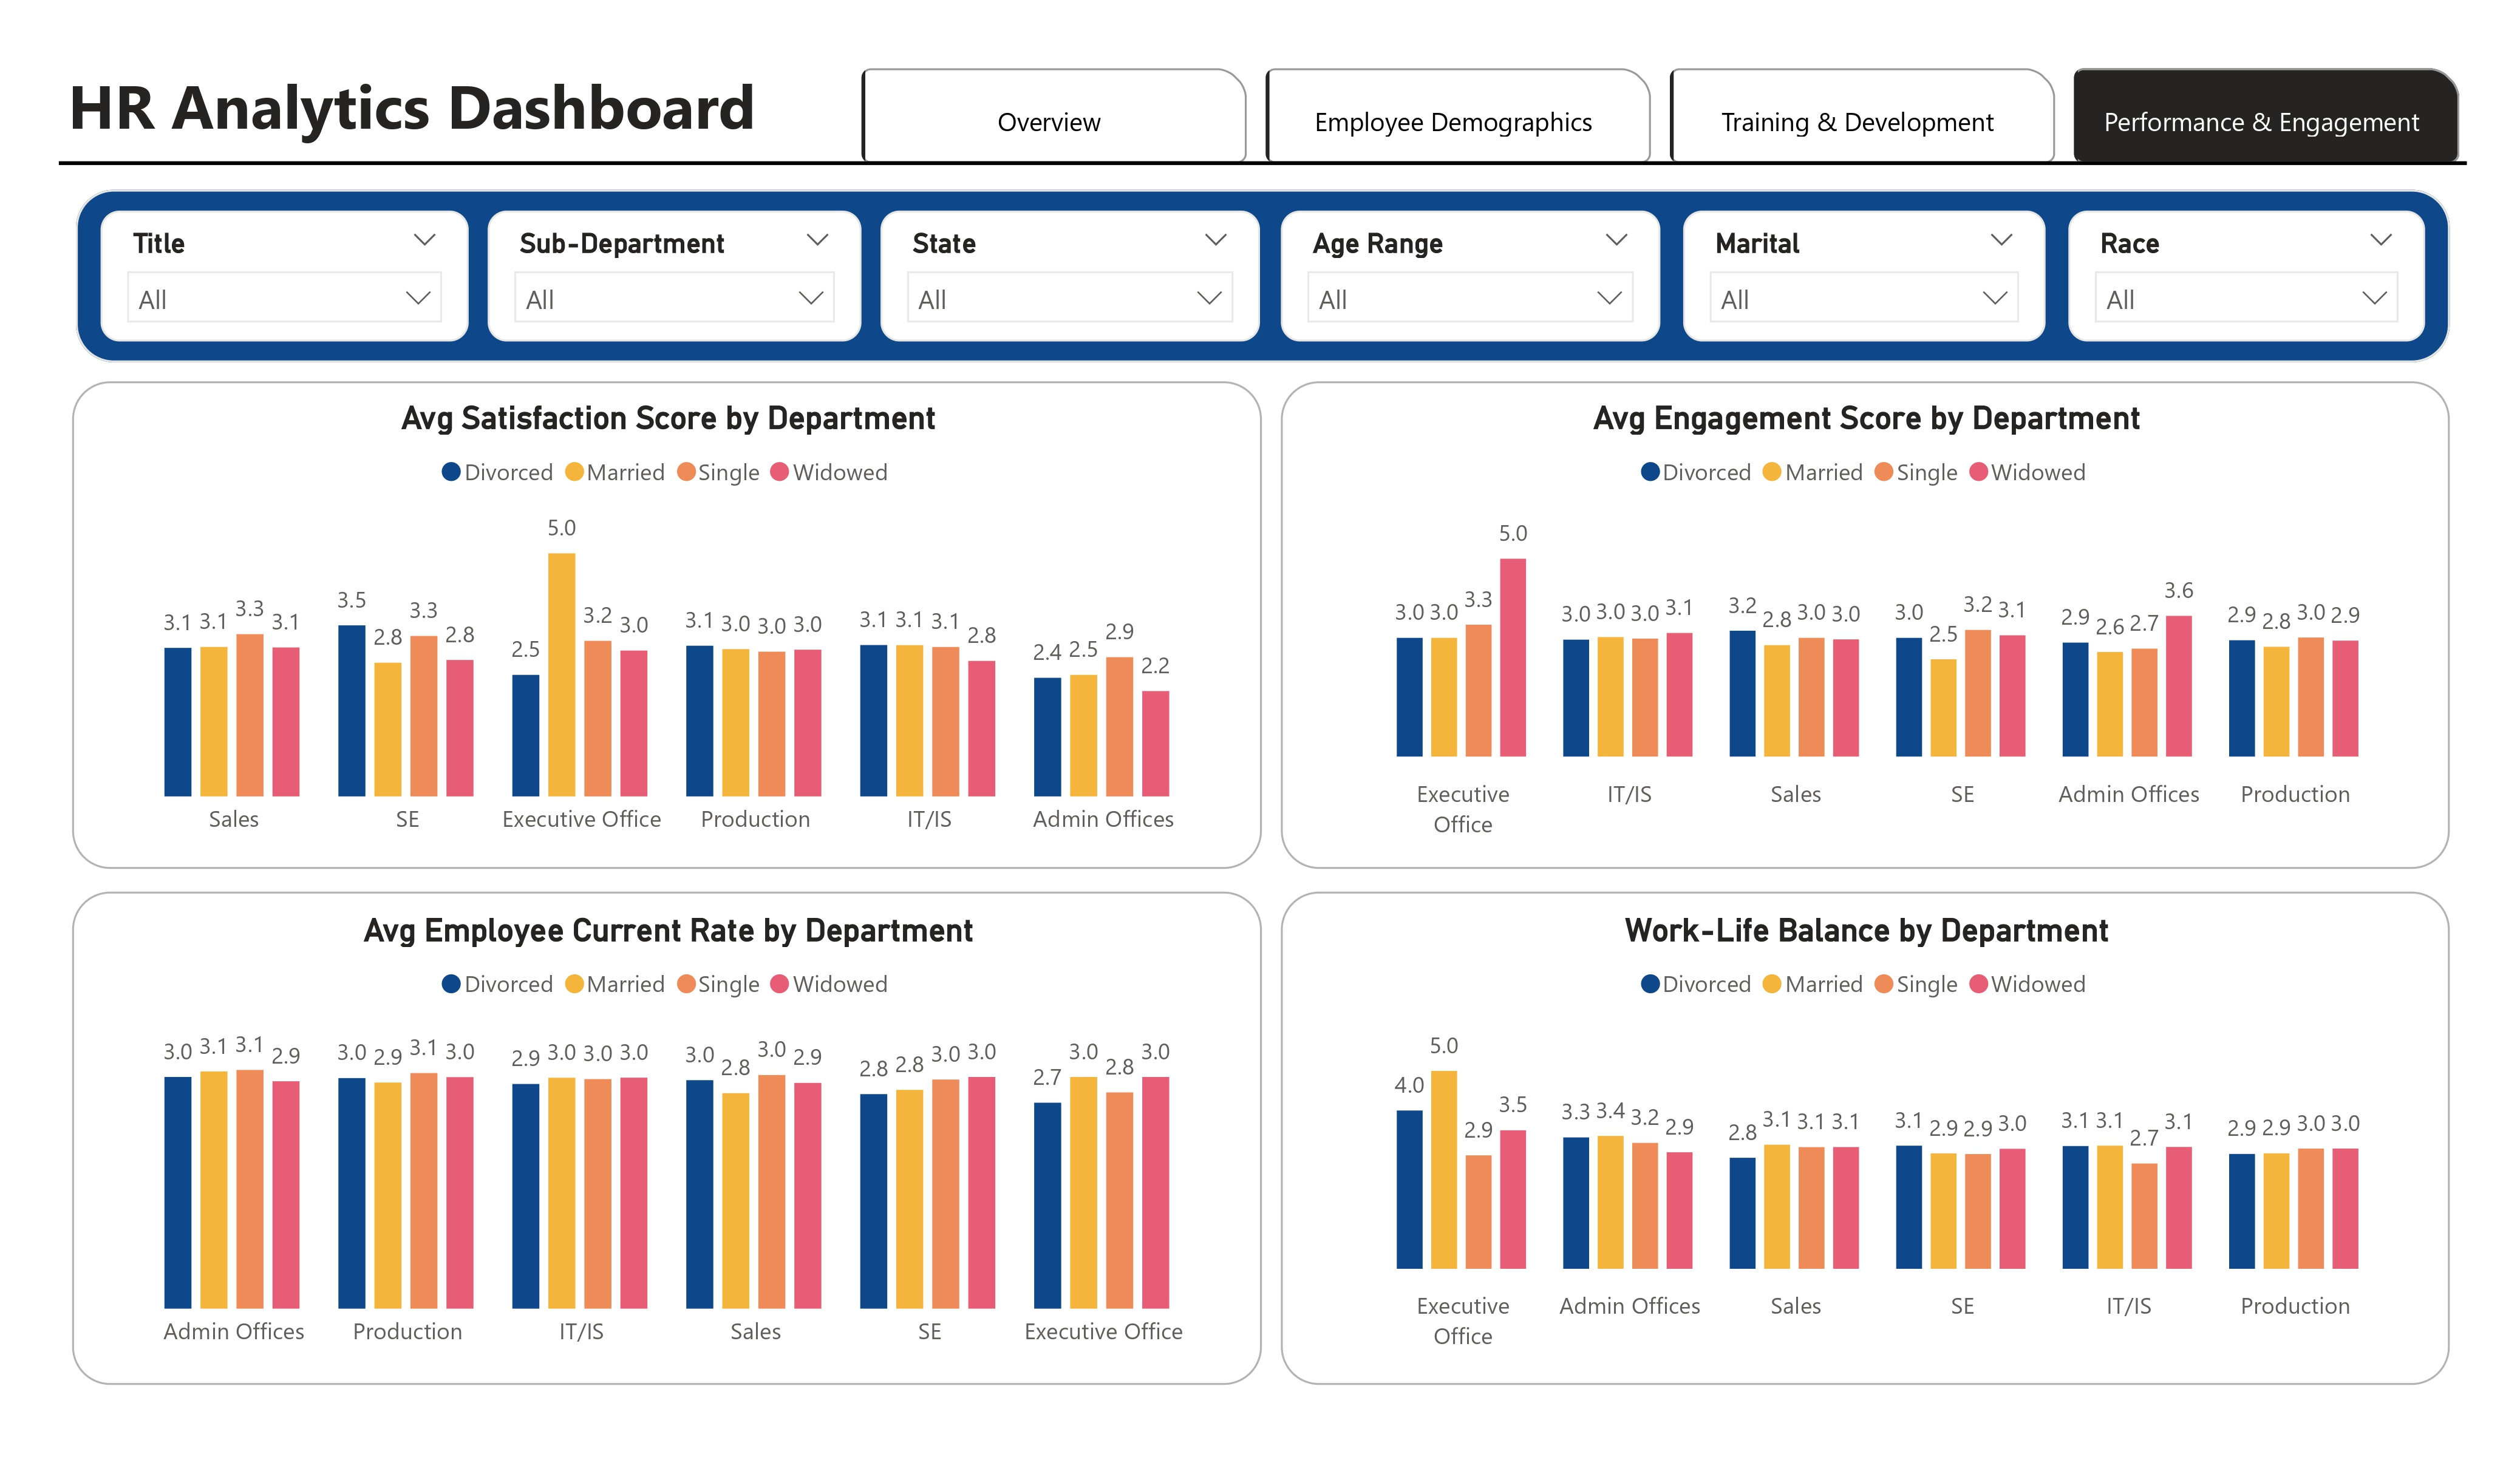

Layout of this report page (visuals, bound fields, positions):
{"tool":"powerbi","page":{"name":"Performance & Engagement","canvas":[1280,720],"ordinal":3},"visuals":[{"type":"textbox","box":[7.1,4.3,407.1,58.6],"z":0},{"type":"pageNavigator","box":[430,12.1,845,50],"z":1000},{"type":"shape","box":[7.1,0,1268.6,124.3],"z":2000},{"type":"shape","box":[15.7,75.7,1251.4,91.4],"z":3000},{"type":"slicer","fields":{"Values":["Cleaned_HR_Data_Analysis (2).Title"]},"box":[28.6,87.1,194.3,68.6],"z":4000},{"type":"slicer","fields":{"Values":["Cleaned_HR_Data_Analysis (2).Division"]},"box":[232.9,87.1,197.1,68.6],"z":5000},{"type":"slicer","fields":{"Values":["Cleaned_HR_Data_Analysis (2).State"]},"box":[440,87.1,200,68.6],"z":6000},{"type":"slicer","fields":{"Values":["Cleaned_HR_Data_Analysis (2).Age Range"]},"box":[651.4,87.1,200,68.6],"z":7000},{"type":"slicer","fields":{"Values":["Cleaned_HR_Data_Analysis (2).MaritalDesc"]},"box":[862.9,87.1,191.4,68.6],"z":8000},{"type":"shape","box":[14.3,177.1,627.1,257.1],"z":9000},{"type":"shape","box":[14.3,445.7,627.1,260],"z":10000},{"type":"slicer","fields":{"Values":["Cleaned_HR_Data_Analysis (2).RaceDesc"]},"box":[1065.7,87.1,188.6,68.6],"z":11000},{"type":"clusteredColumnChart","title":"Avg Employee  Current Rate by Department ","fields":{"Y":["Avg(Cleaned_HR_Data_Analysis (2).Current Employee Rating)"],"Category":["Cleaned_HR_Data_Analysis (2).DepartmentType"],"Series":["Cleaned_HR_Data_Analysis (2).MaritalDesc"]},"box":[21.4,455.7,614.3,240],"z":12000},{"type":"clusteredColumnChart","title":"Avg Satisfaction Score by Department ","fields":{"Category":["Cleaned_HR_Data_Analysis (2).DepartmentType"],"Y":["Avg(Cleaned_HR_Data_Analysis (2).Satisfaction Score)"],"Series":["Cleaned_HR_Data_Analysis (2).MaritalDesc"]},"box":[21.4,185.7,614.3,240],"z":13000},{"type":"shape","box":[651.4,177.1,615.7,257.1],"z":14000},{"type":"shape","box":[651.4,445.7,615.7,260],"z":15000},{"type":"clusteredColumnChart","title":"Avg Engagement Score by Department ","fields":{"Category":["Cleaned_HR_Data_Analysis (2).DepartmentType"],"Y":["Avg(Cleaned_HR_Data_Analysis (2).Engagement Score)"],"Series":["Cleaned_HR_Data_Analysis (2).MaritalDesc"]},"box":[658.6,185.7,602.9,240],"z":16000},{"type":"clusteredColumnChart","title":"Work-Life Balance by Department ","fields":{"Category":["Cleaned_HR_Data_Analysis (2).DepartmentType"],"Y":["Avg(Cleaned_HR_Data_Analysis (2).Work-Life Balance Score)"],"Series":["Cleaned_HR_Data_Analysis (2).MaritalDesc"]},"box":[658.6,455.7,602.9,240],"z":17000}]}

Visuals, with their boxes on the page's 1280x720 design canvas (x1, y1, x2, y2). These are canvas units, not pixel positions in the 2520x1457 screenshot, which may show the page scaled, cropped or inside an application window:
textbox: Rect(7, 4, 414, 63)
pageNavigator: Rect(430, 12, 1275, 62)
shape: Rect(7, 0, 1276, 124)
shape: Rect(16, 76, 1267, 167)
slicer - Cleaned_HR_Data_Analysis (2).Title: Rect(29, 87, 223, 156)
slicer - Cleaned_HR_Data_Analysis (2).Division: Rect(233, 87, 430, 156)
slicer - Cleaned_HR_Data_Analysis (2).State: Rect(440, 87, 640, 156)
slicer - Cleaned_HR_Data_Analysis (2).Age Range: Rect(651, 87, 851, 156)
slicer - Cleaned_HR_Data_Analysis (2).MaritalDesc: Rect(863, 87, 1054, 156)
shape: Rect(14, 177, 641, 434)
shape: Rect(14, 446, 641, 706)
slicer - Cleaned_HR_Data_Analysis (2).RaceDesc: Rect(1066, 87, 1254, 156)
"Avg Employee  Current Rate by Department " clusteredColumnChart: Rect(21, 456, 636, 696)
"Avg Satisfaction Score by Department " clusteredColumnChart: Rect(21, 186, 636, 426)
shape: Rect(651, 177, 1267, 434)
shape: Rect(651, 446, 1267, 706)
"Avg Engagement Score by Department " clusteredColumnChart: Rect(659, 186, 1262, 426)
"Work-Life Balance by Department " clusteredColumnChart: Rect(659, 456, 1262, 696)
